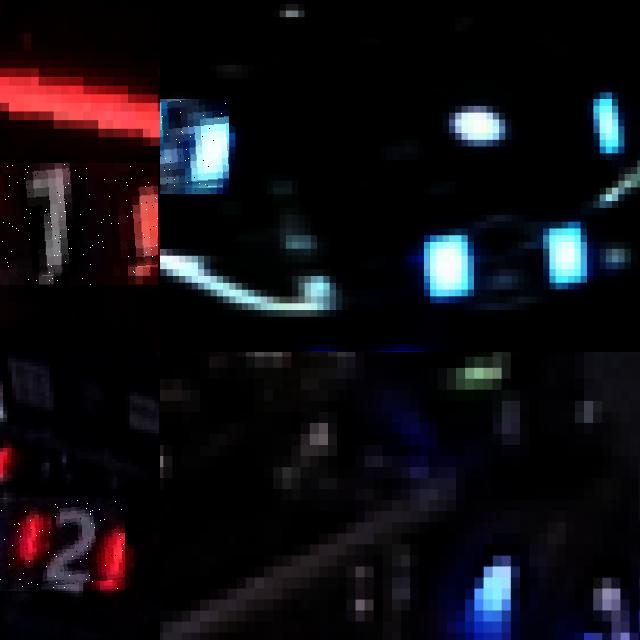Bs: (430, 222, 587, 303), (160, 98, 229, 194)
R1: (0, 163, 157, 284)
R2: (0, 498, 125, 591)
